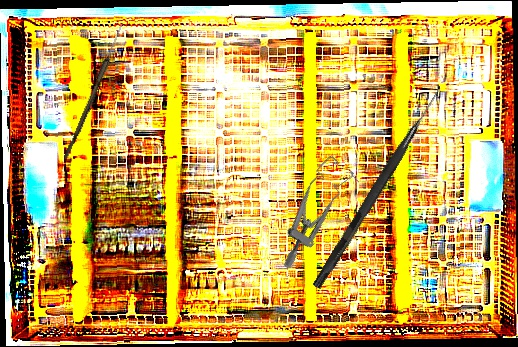Hook Surgical: (312, 85, 443, 291)
Speculum: (253, 152, 369, 271)
Surgical Spoon: (63, 22, 125, 161)
